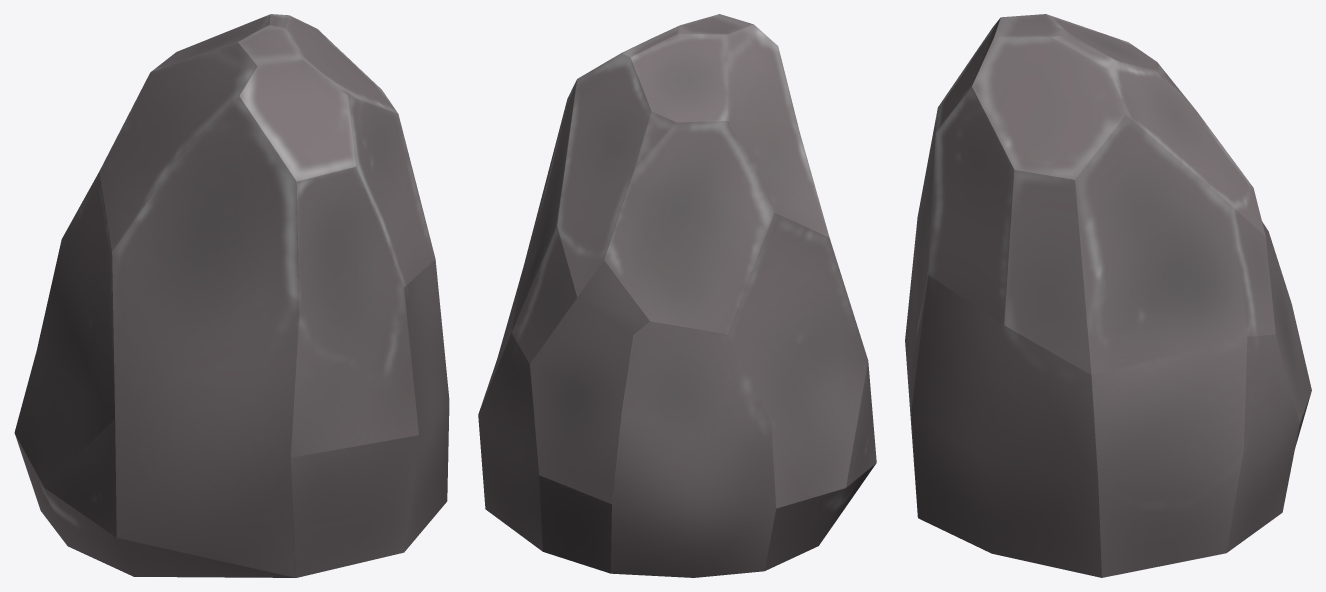
The model's file is ROK0110006.fbx.
The picture shows the model from 3 angles, left to right: view 1: azimuth 30°, elevation 25°; view 2: azimuth 150°, elevation 25°; view 3: azimuth 270°, elevation 25°; orthographic projection. The views are drawn at different scales.
Parts seen in each view (by area): view 1: smROK0110006; view 2: smROK0110006; view 3: smROK0110006.
Boxes of the visible parts, x1,y1,x2,y2 form: smROK0110006: (14, 14, 449, 577); smROK0110006: (478, 14, 876, 577); smROK0110006: (905, 14, 1311, 577).
Bounding box in the file's own units: 70.75 × 88.28 × 68.58.
Materials: 1 (1 with a texture image).
